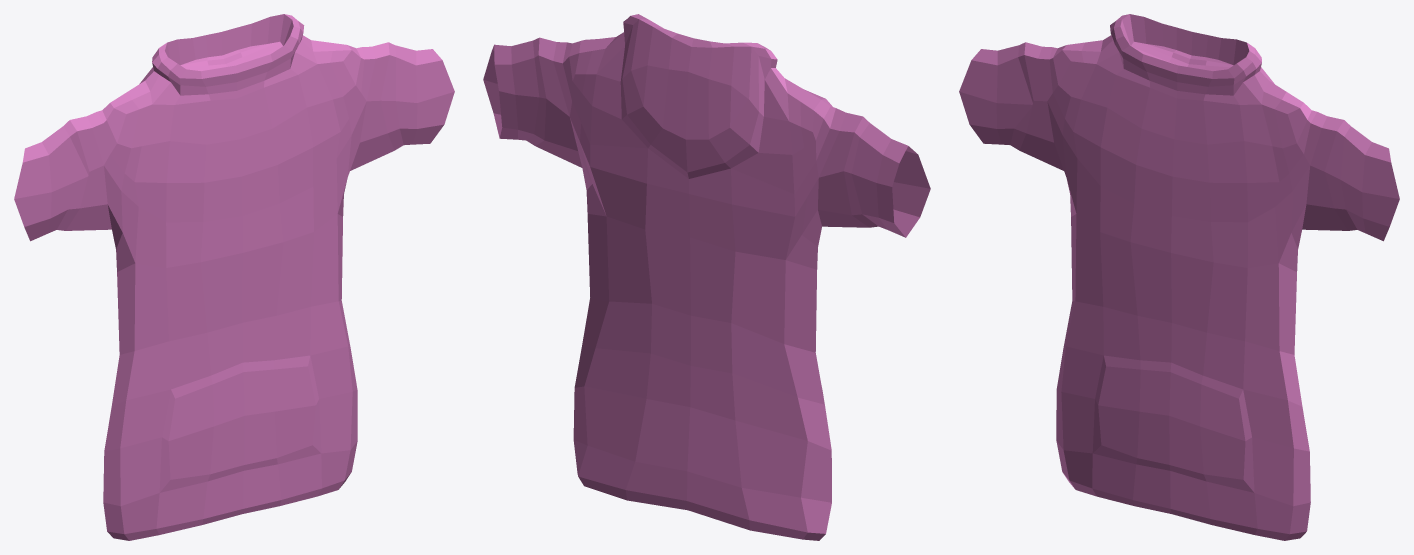
File: cloth.fbx
3 views of the same model, side by side, from view 1: azimuth 30°, elevation 25°; view 2: azimuth 150°, elevation 25°; view 3: azimuth 330°, elevation 25° (orthographic).
Visible parts, largest first — view 1: Casual_Body; view 2: Casual_Body; view 3: Casual_Body.
Boxes of the visible parts, x1=… form: Casual_Body: x1=14, y1=14, x2=454, y2=540; Casual_Body: x1=483, y1=14, x2=930, y2=540; Casual_Body: x1=959, y1=14, x2=1399, y2=540.
Size of the model in its own units: 54.58 by 56.93 by 6.65.
